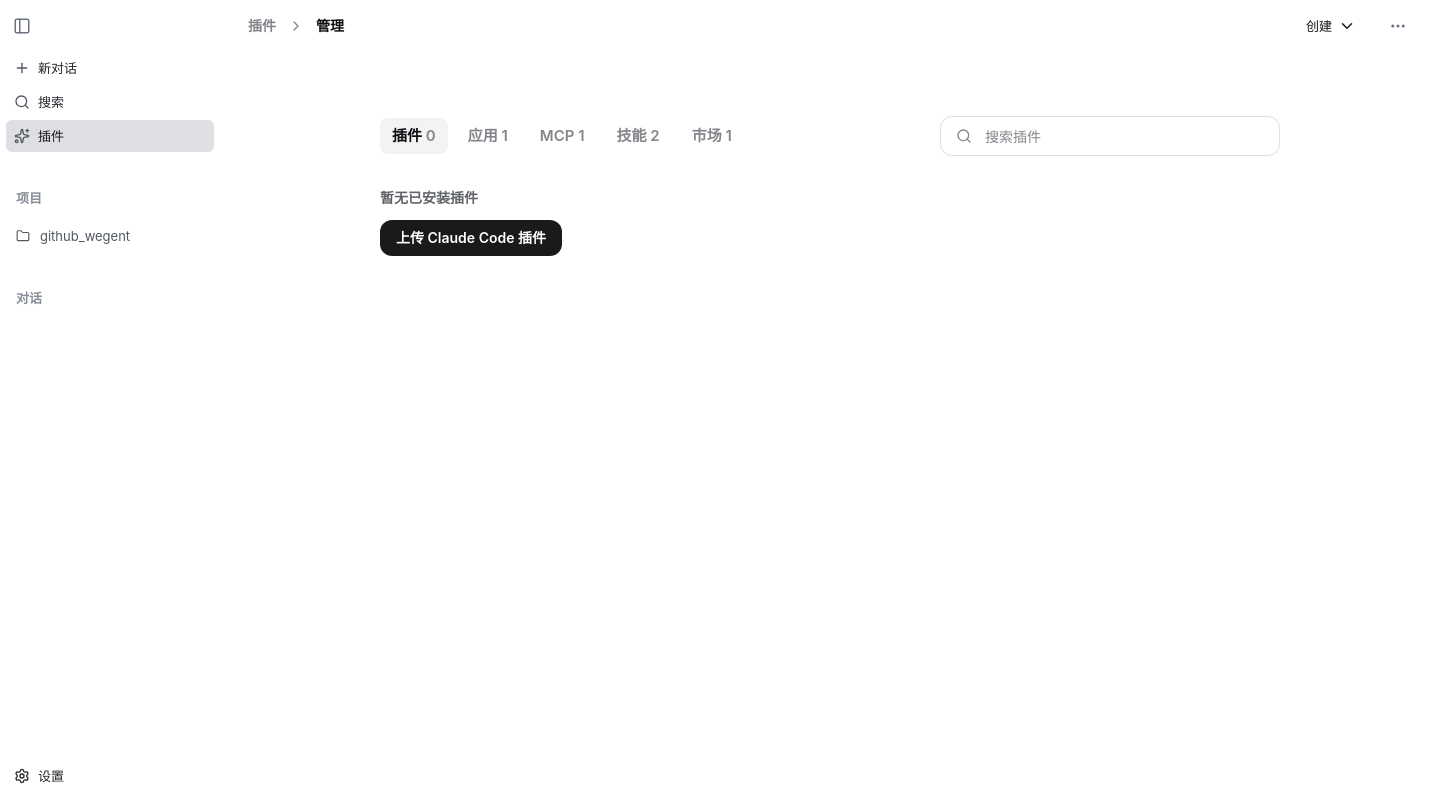
App plugins route › creates custom MCPs from management page
Click the button with test id "plugin-management-create-button" at (1331,26), box [1298,12,1364,40]
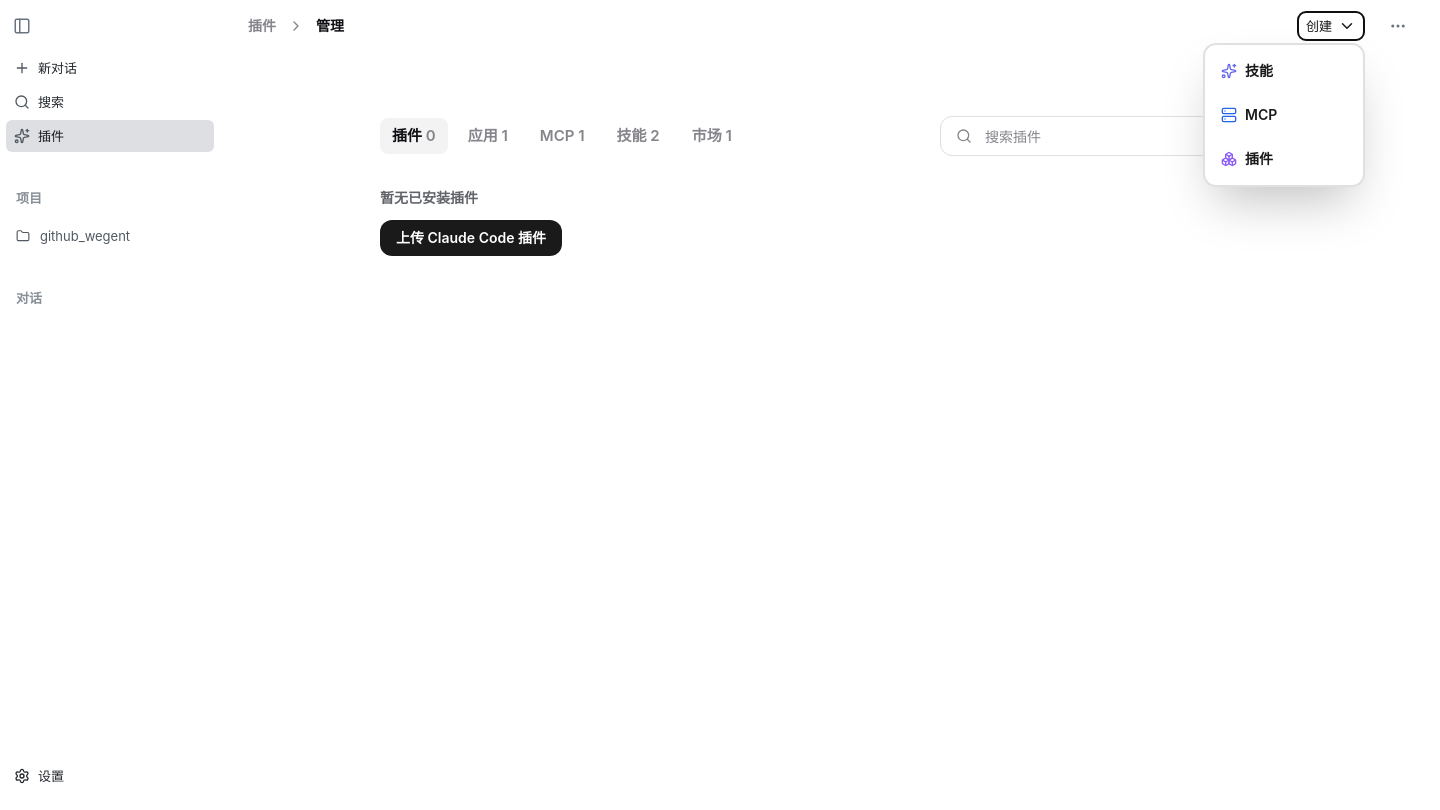
Click the button with test id "plugins-create-mcp-option" at (1284,115), box [1209,93,1359,137]
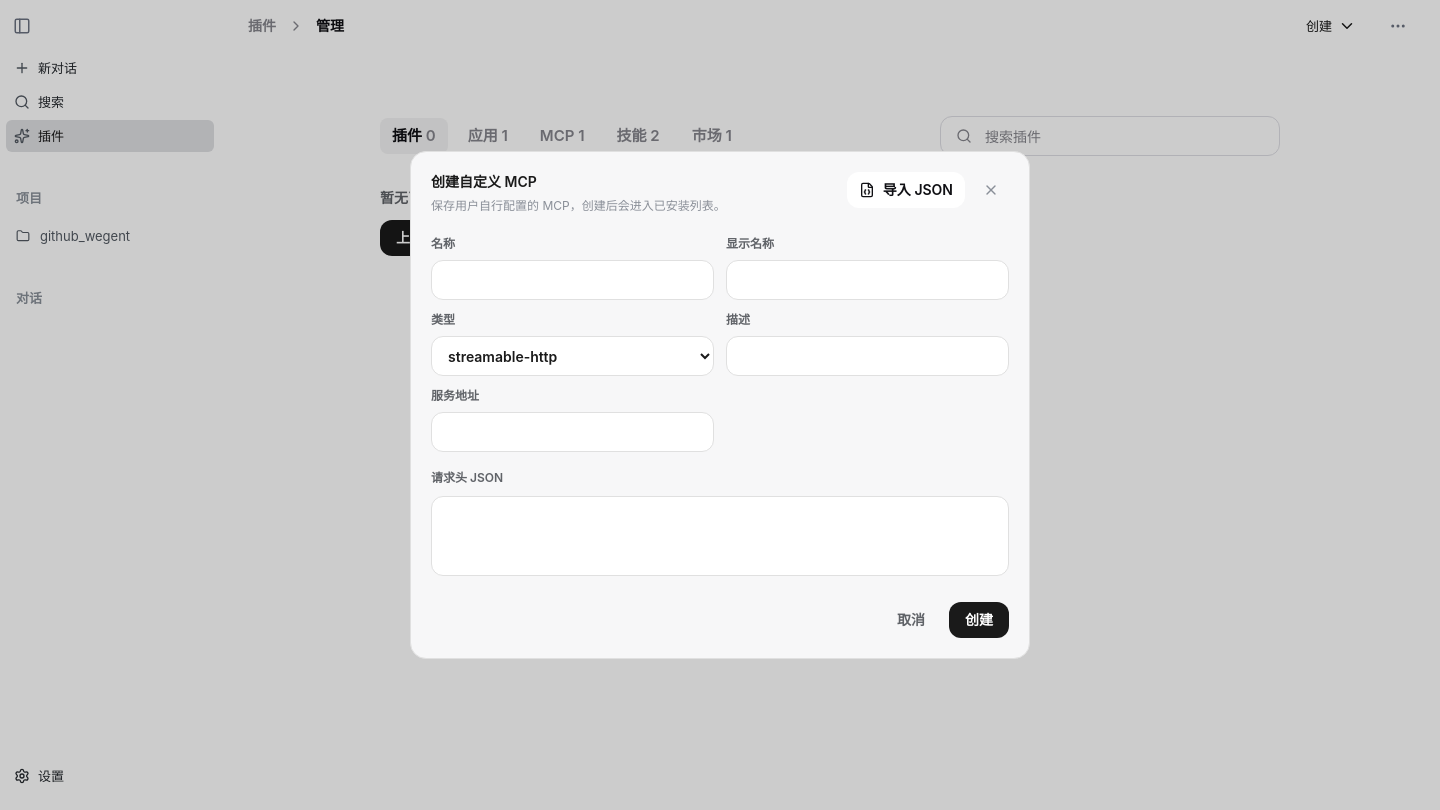
Type "local-docs" into the field with test id "custom-mcp-name-input" at (572,280), box [431,260,714,300]
Type "Local Docs" into the field with test id "custom-mcp-display-name-input" at (868,280), box [726,260,1009,300]
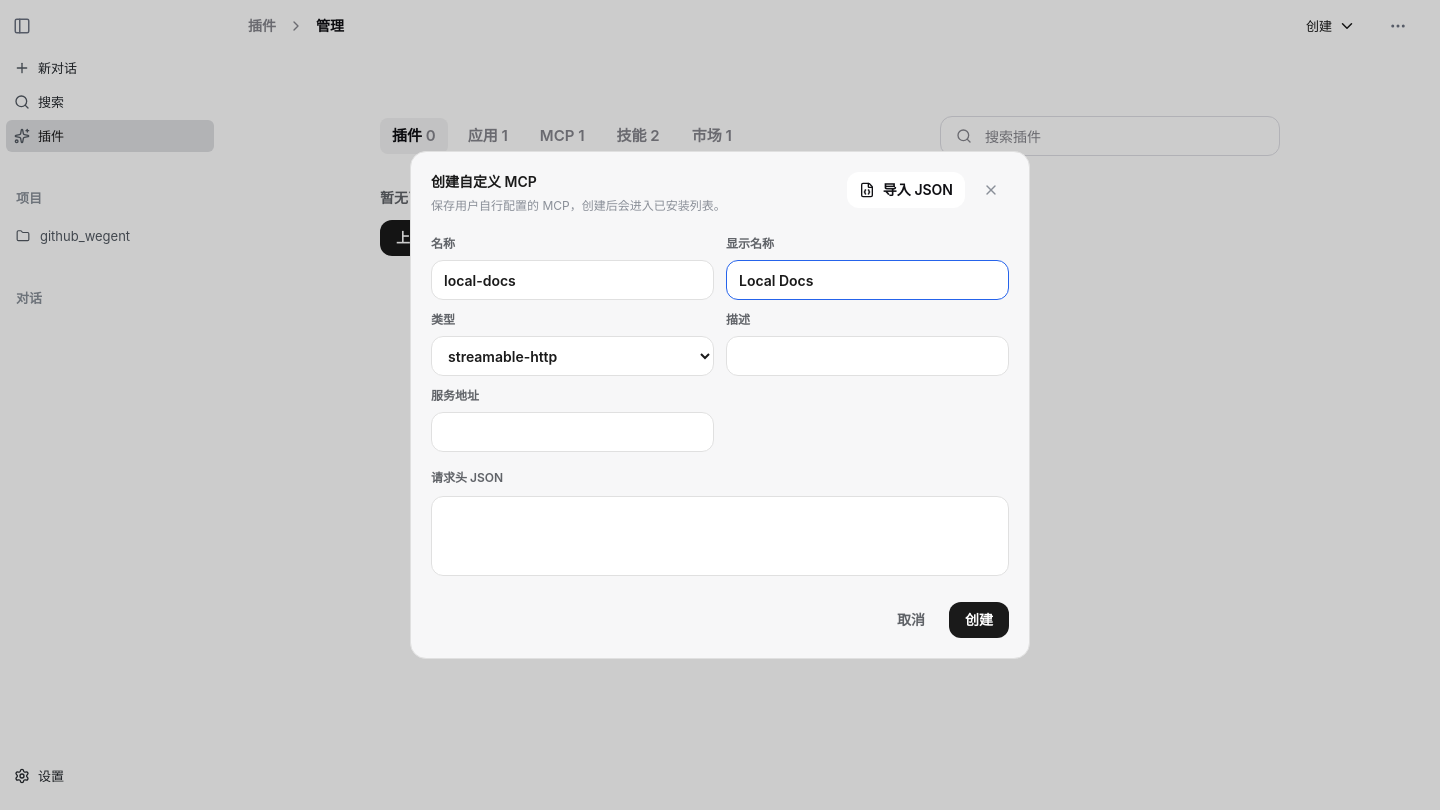
Type "https://mcp.example.com/local" into the field with test id "custom-mcp-url-input" at (572,432), box [431,412,714,452]
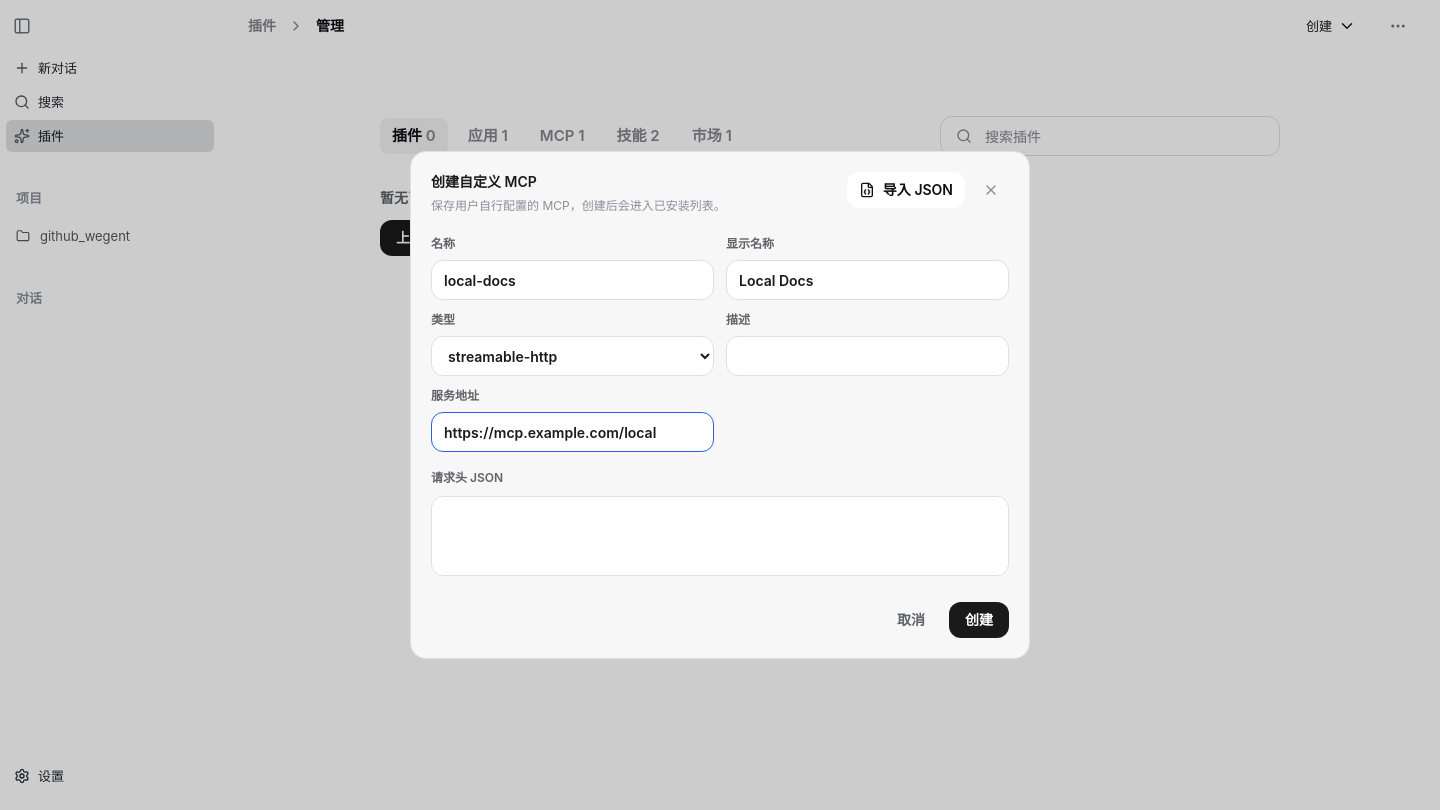
Click the button with test id "custom-mcp-submit-button" at (979,620), box [949,602,1009,638]
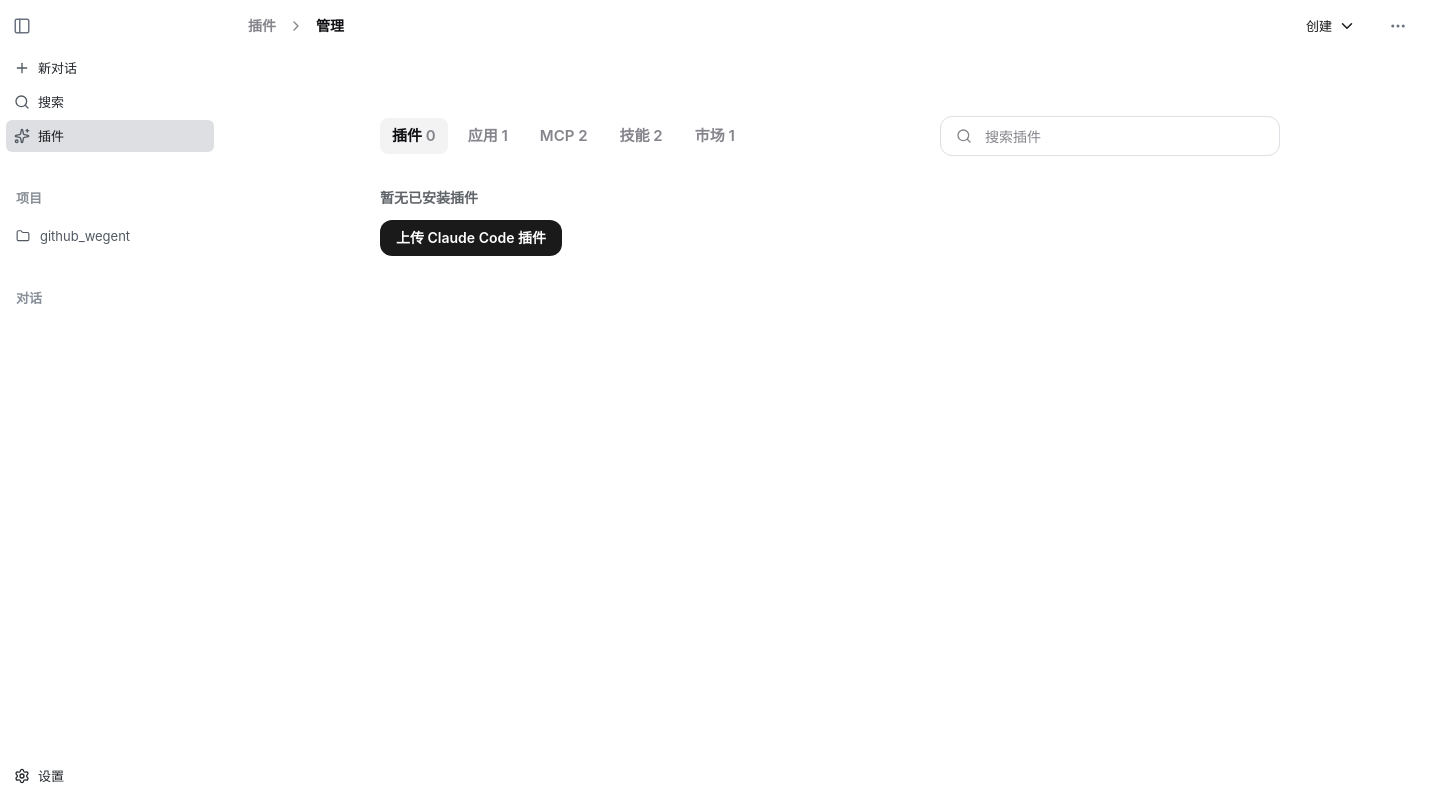
Click the tab "MCP 2" at (564,136), box [528,118,600,154]
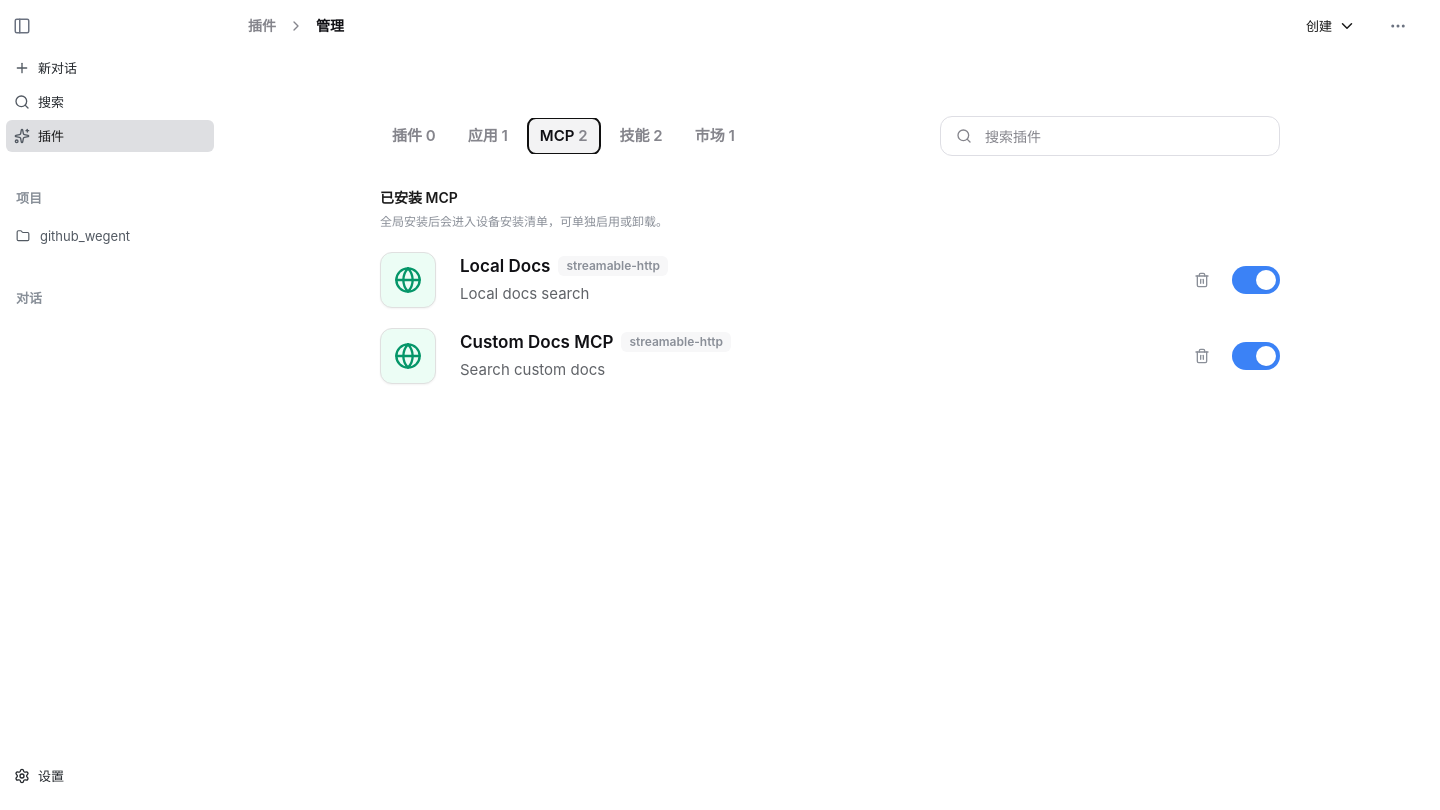
expect the heading "Local Docs" is shown: met, box [460,254,550,278]
